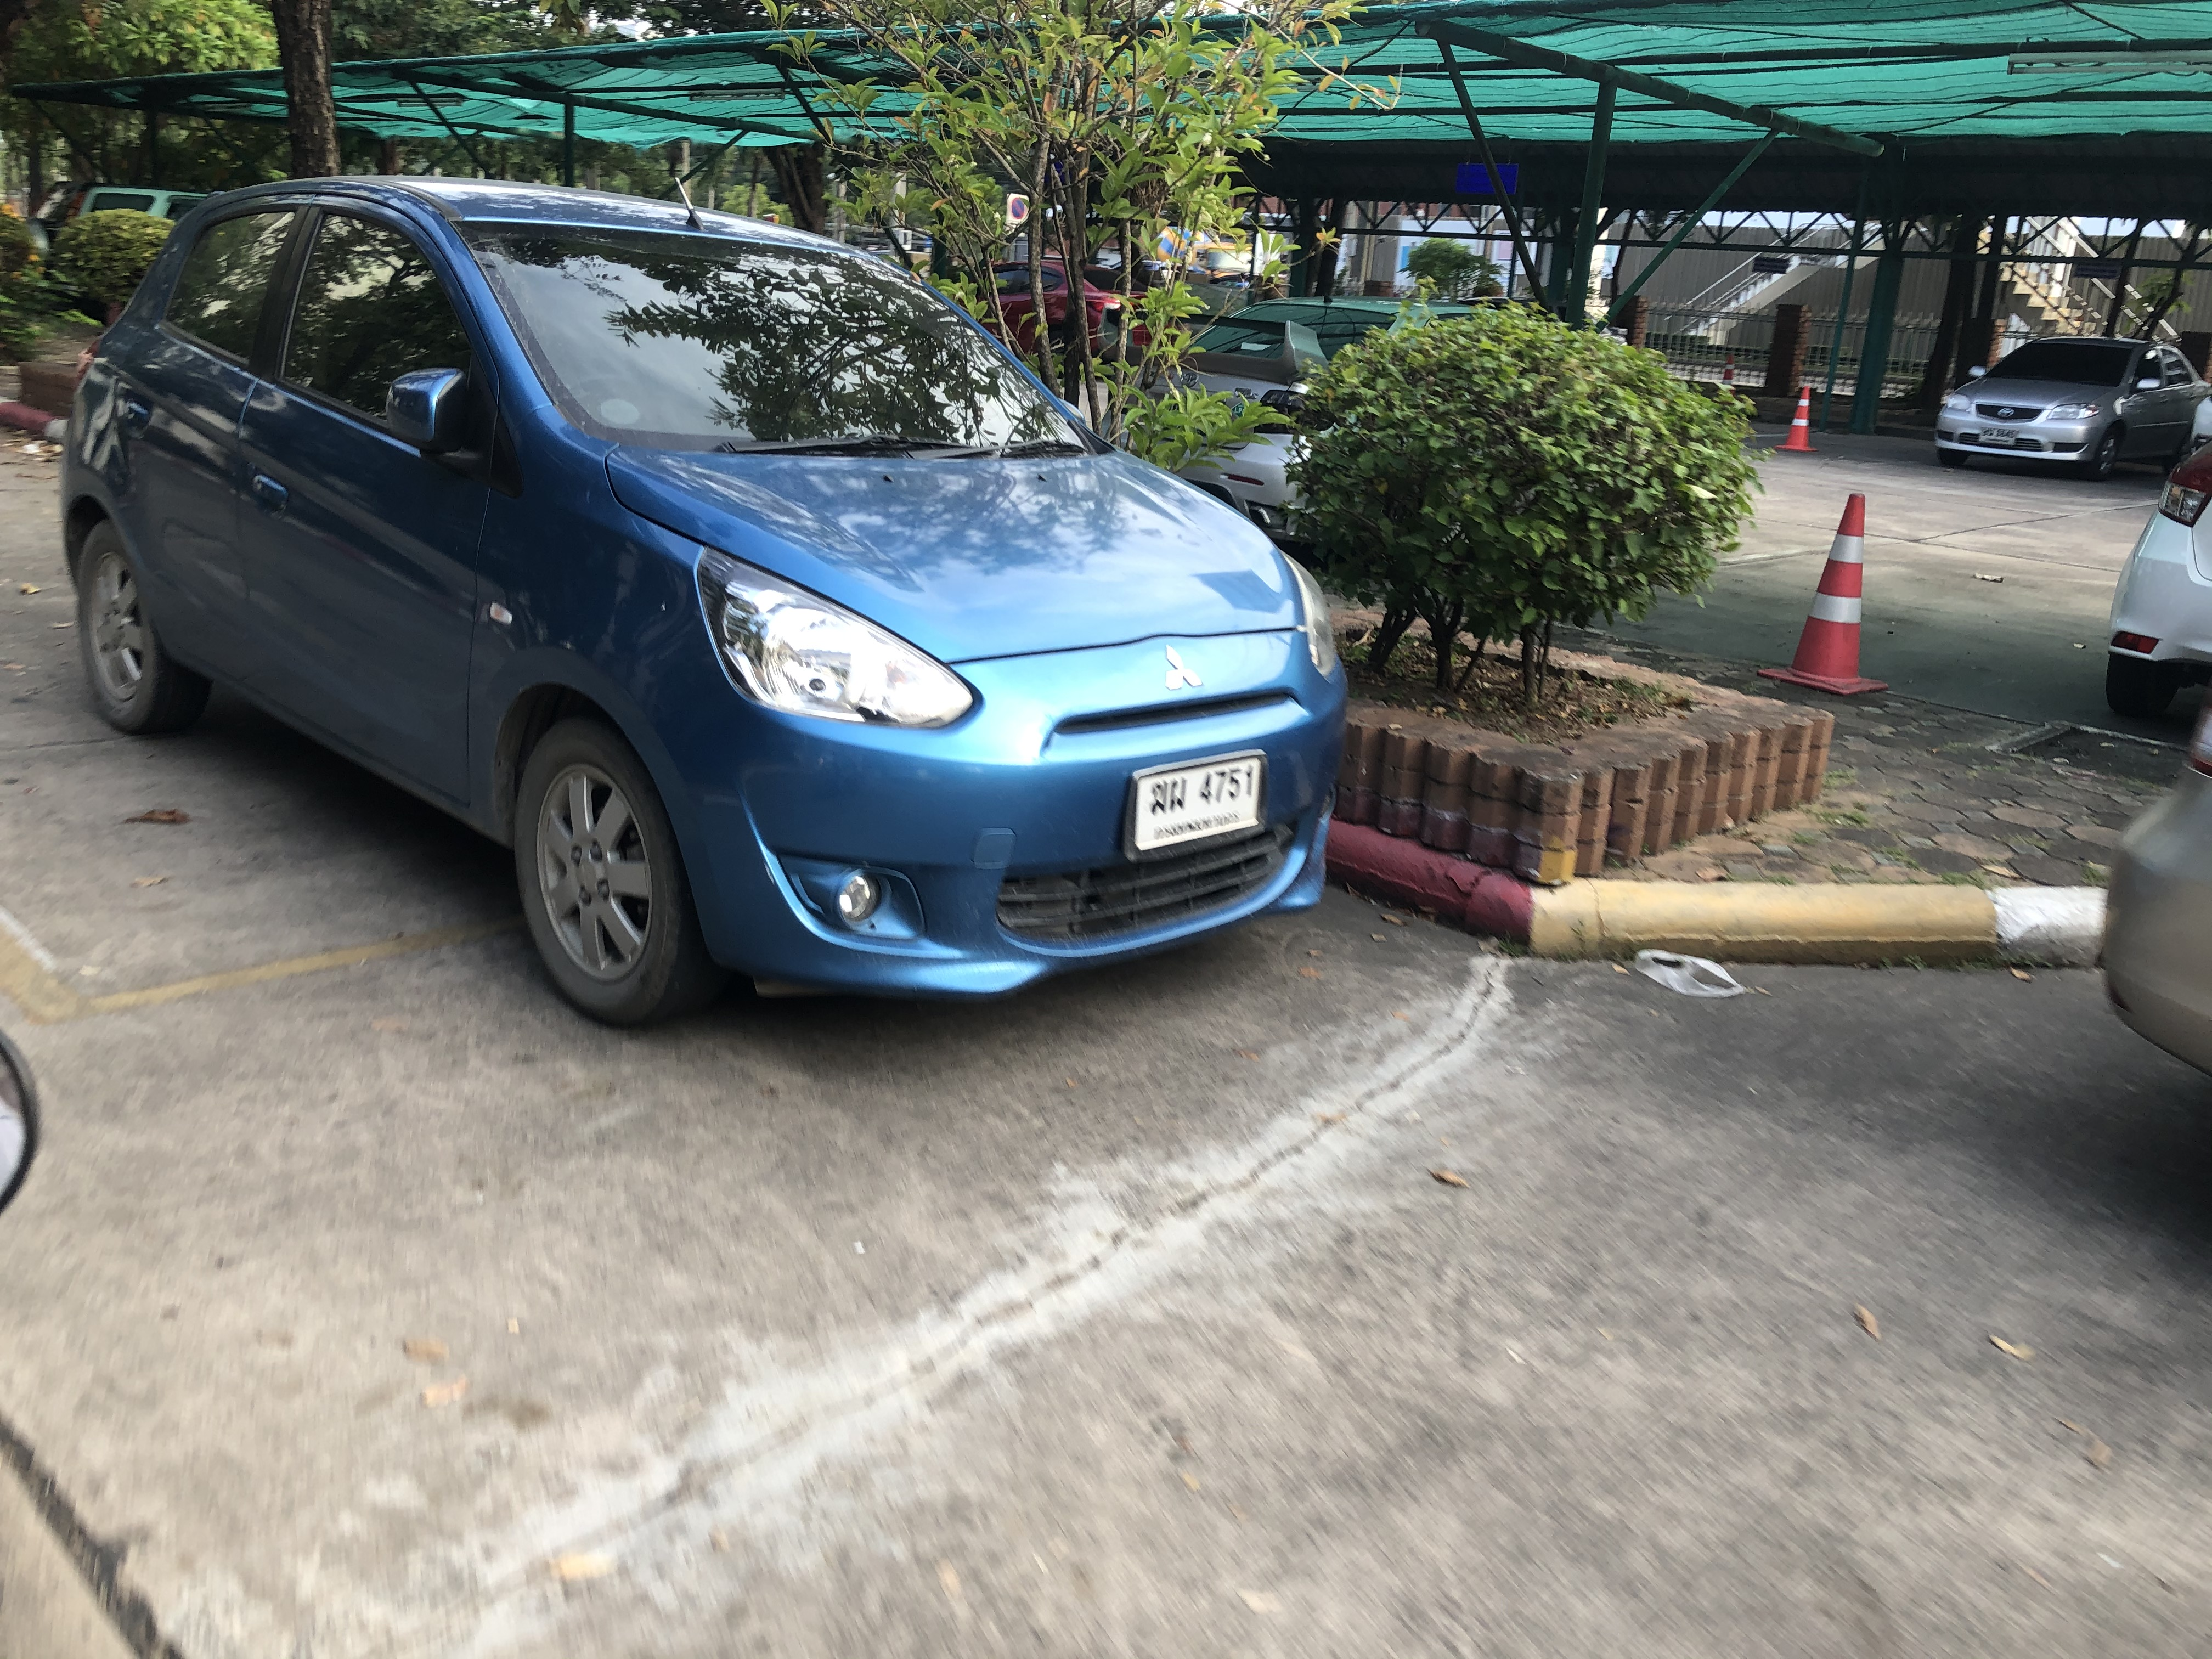in: (1139, 758, 1259, 847)
out: (1122, 748, 1271, 864)
